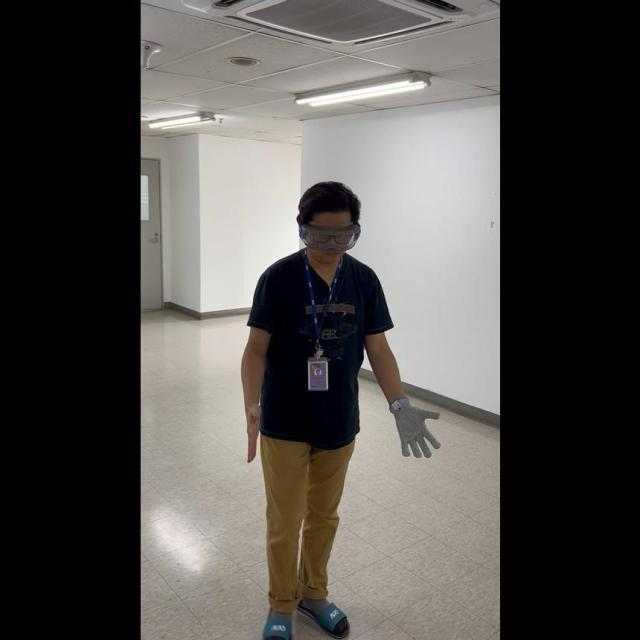bare_hand: (242, 394, 263, 462)
gloved_hand: (385, 393, 441, 459)
